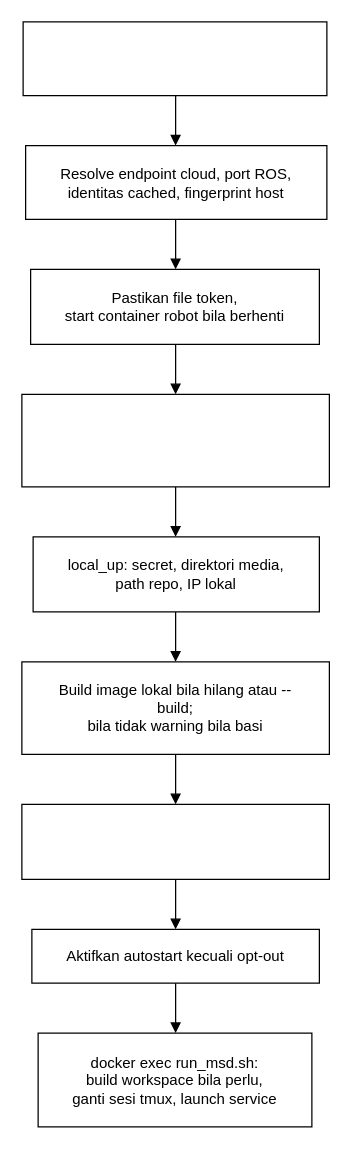
Some shapes in this 351 by 1149 pixel diagram are drawn without their labels. Each missing label, with the centre of its shape:
Bila --build: build image robot Bila simulator: pastikan world asset: point (174, 58)
compose --profile local_dev up -d -- no-build: point (175, 841)
Rekonsiliasi duplikat robot_pose_publisher marker CATKIN_IGNORE: point (175, 440)
